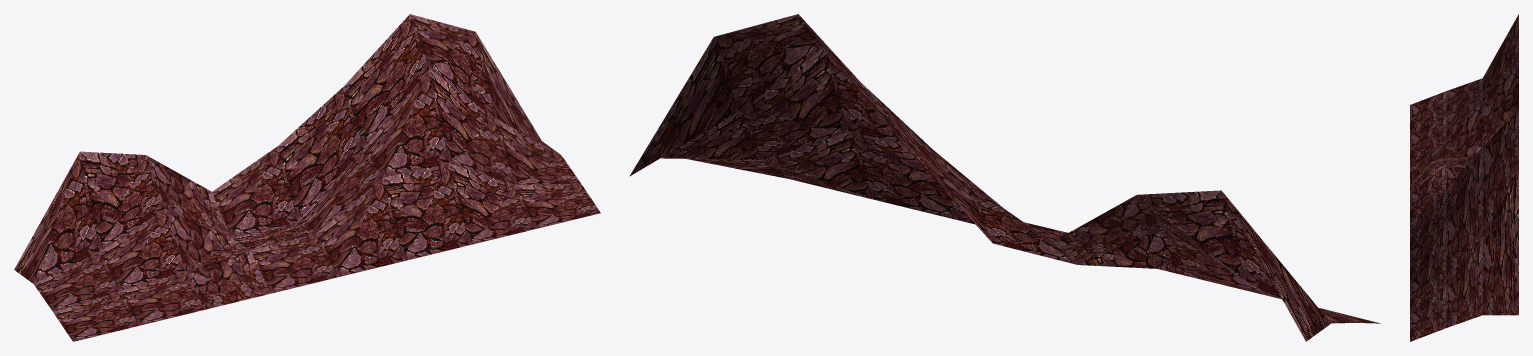
File: Mountains 1.fbx
3 views of the same model, side by side, from view 1: azimuth 30°, elevation 25°; view 2: azimuth 150°, elevation 25°; view 3: azimuth 270°, elevation 25° (orthographic). The views are drawn at different scales.
Parts seen in each view (by area): view 1: Lava Floor 1; view 2: Lava Floor 1; view 3: Lava Floor 1.
Boxes of the visible parts, x1,y1,x2,y2 form: Lava Floor 1: [14, 14, 600, 341]; Lava Floor 1: [629, 14, 1380, 341]; Lava Floor 1: [1410, 14, 1518, 341].
Size of the model in its own units: 38.76 by 200 by 68.11.
1 material, 1 textured.
